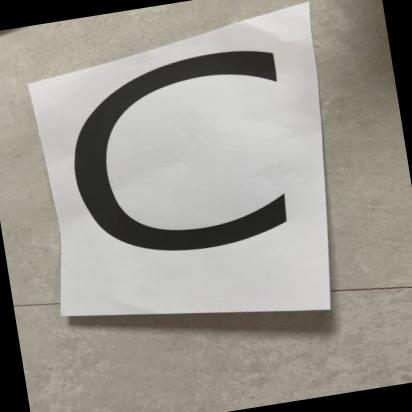seat: (23, 21, 339, 336)
